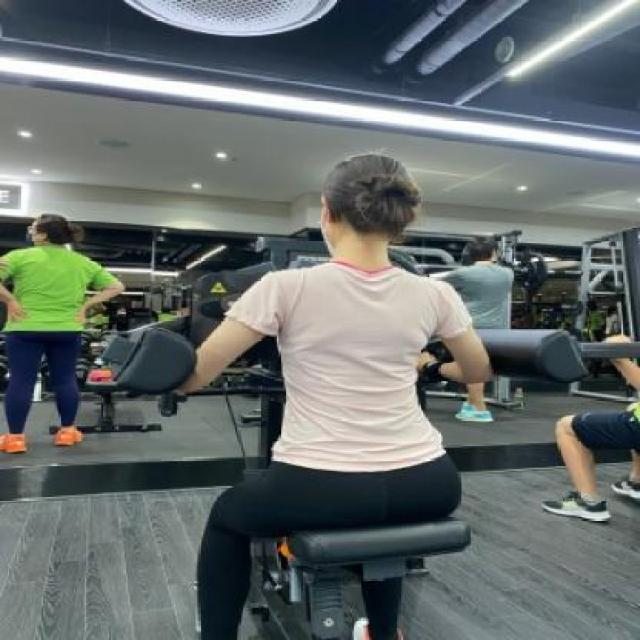lateral raises machine: (108, 235, 583, 640)
